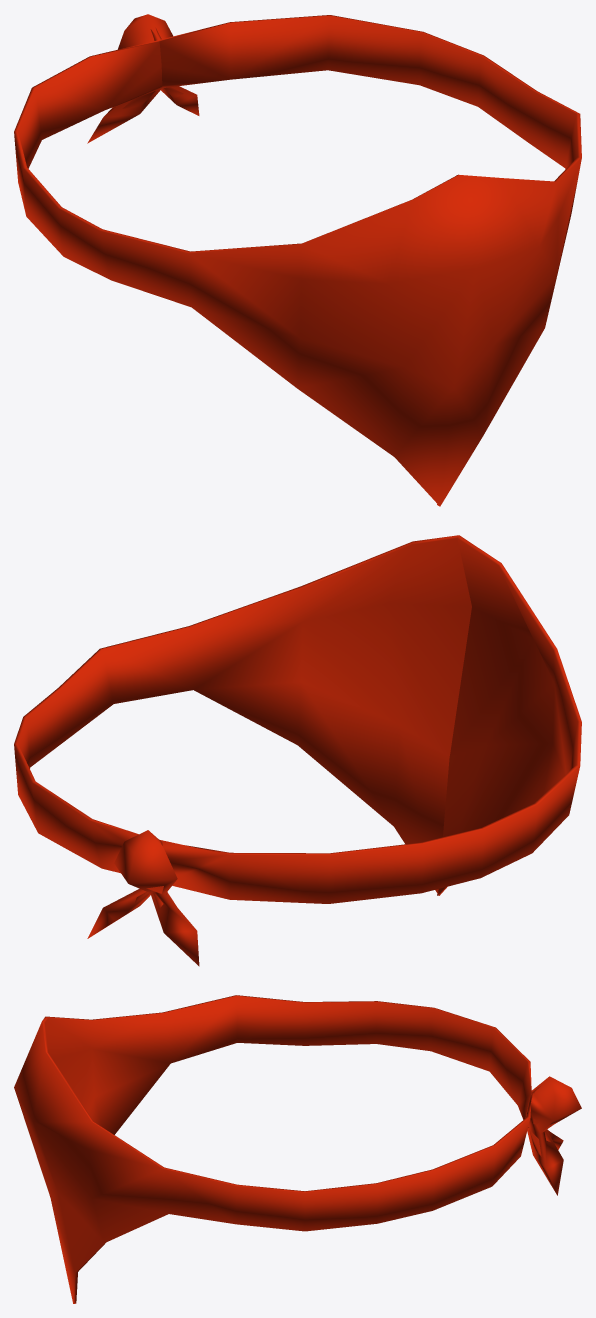
Rendered from Mask.fbx.
3 views of the same model, one above another, from view 1: azimuth 30°, elevation 25°; view 2: azimuth 150°, elevation 25°; view 3: azimuth 270°, elevation 25° (orthographic). The views are drawn at different scales.
Visible parts, largest first — view 1: Bubbah_001; view 2: Bubbah_001; view 3: Bubbah_001.
Part boxes in pixels (left/top/right/bottom): Bubbah_001: left=14, top=14, right=581, bottom=506; Bubbah_001: left=14, top=535, right=581, bottom=966; Bubbah_001: left=14, top=995, right=581, bottom=1303.
Size of the model in its own units: 1.35 by 0.9293 by 1.69.
